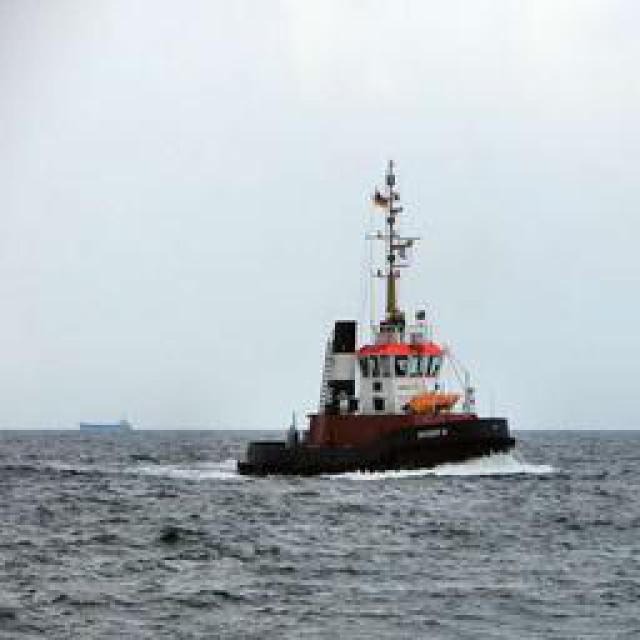Ship: (242, 153, 512, 481)
